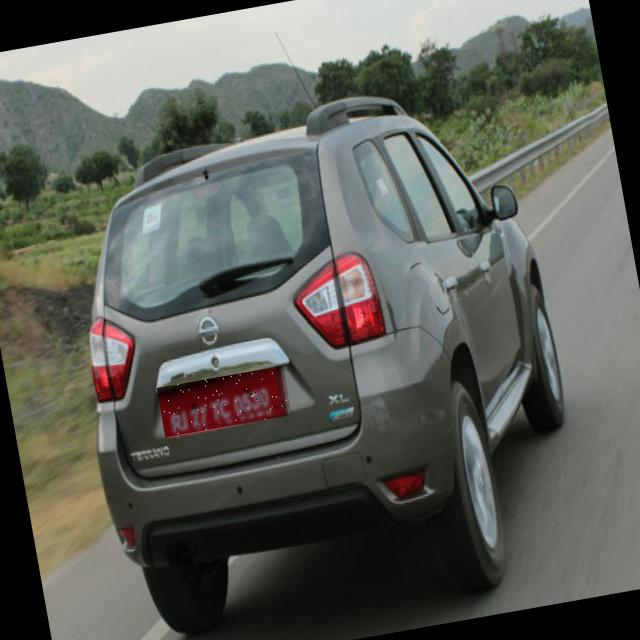Plate: (158, 367, 291, 438)
